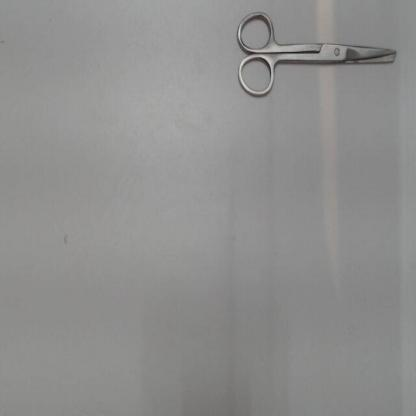Dressing Scissors: (227, 3, 405, 108)
